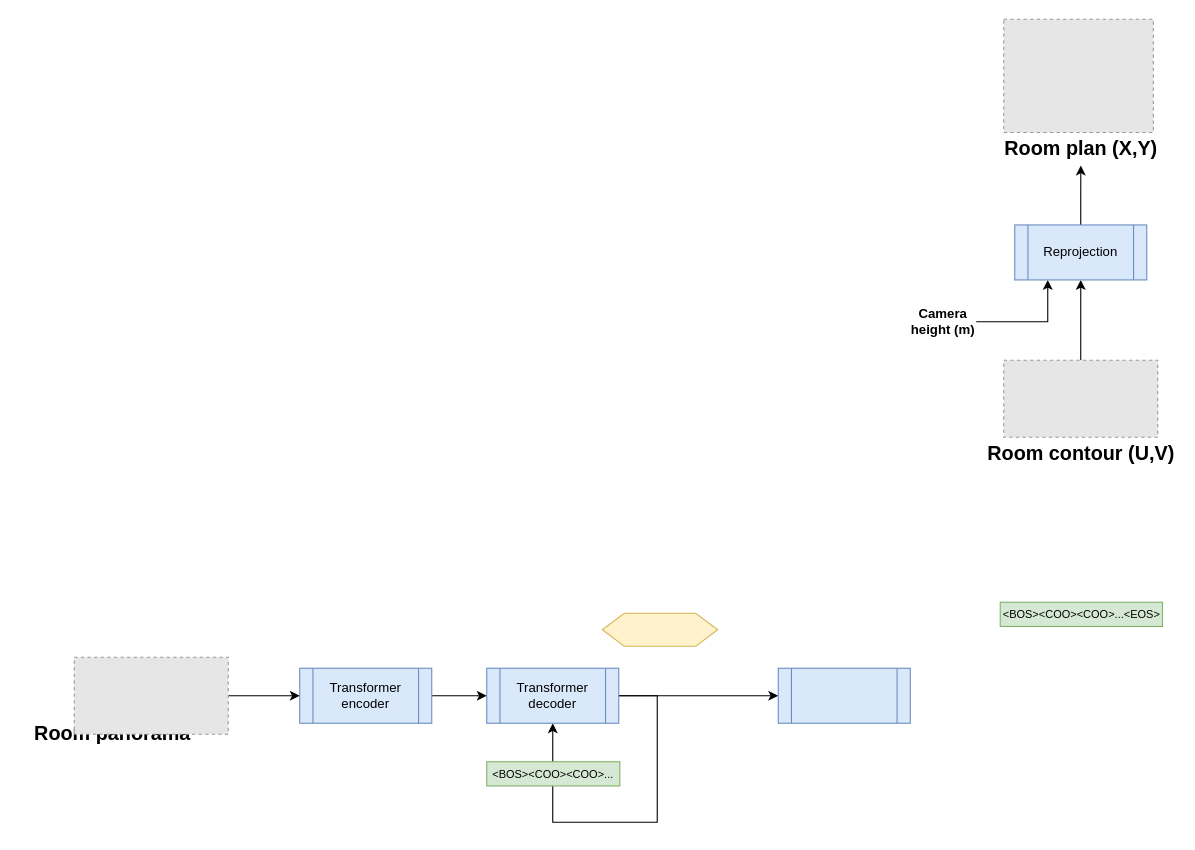
Image size: 1195x850. Some labels were removed from this diagram. Grey dashed boxes stand in for pictures. Here are the shapes that lost their labels. From the top down, the centre of each, then its label:
At point (659, 629): "When <EOS> generated".
At point (843, 695): "Sequence parsing".
